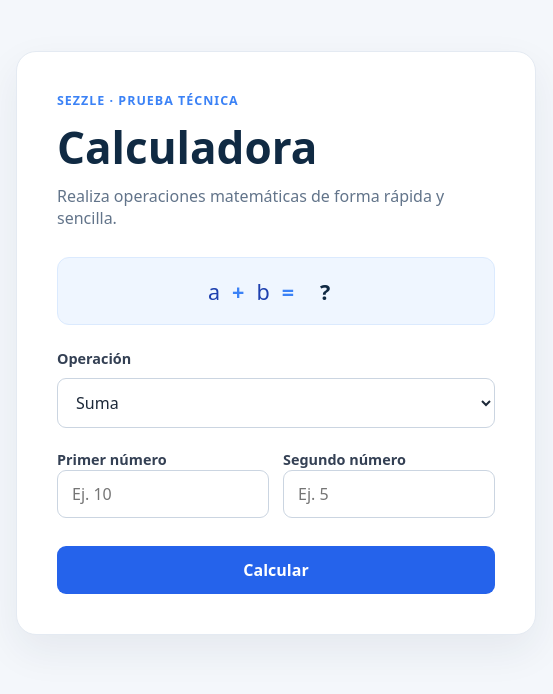
Test case: Calculator › validates empty inputs
Click the button "Calcular".
click(276, 570)  # box [57, 546, 495, 594]
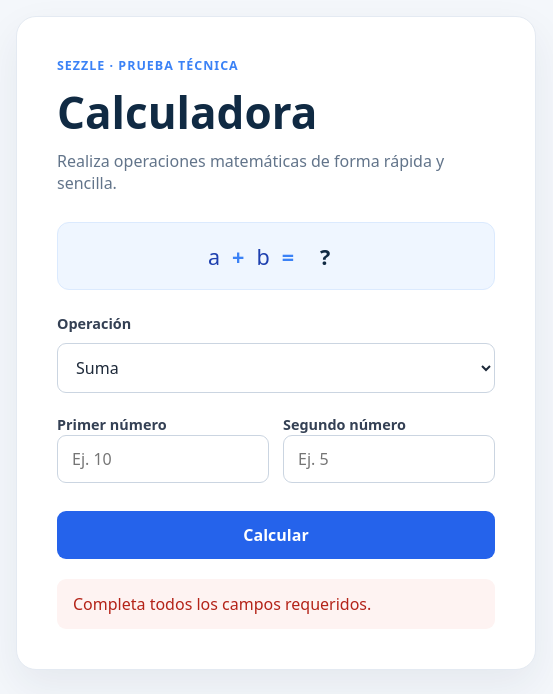
Result: the message reads "Completa todos los campos requeridos." at [73, 593, 371, 615]
